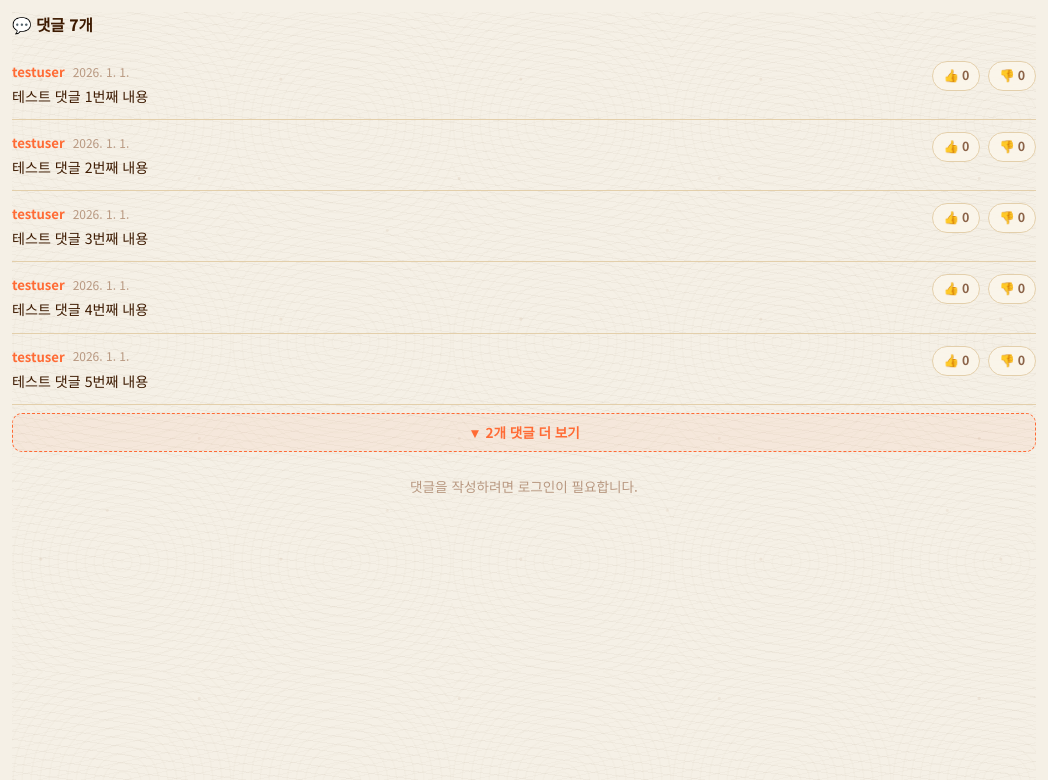
RecommendationCommentSection › 댓글 접기/펼치기 › '더 보기' 클릭 시 전체 댓글이 노출된다
Note: Act: 펼치기
Click the button "▼ 2개 댓글 더 보기".
click(524, 432)  # box [12,413,1036,452]
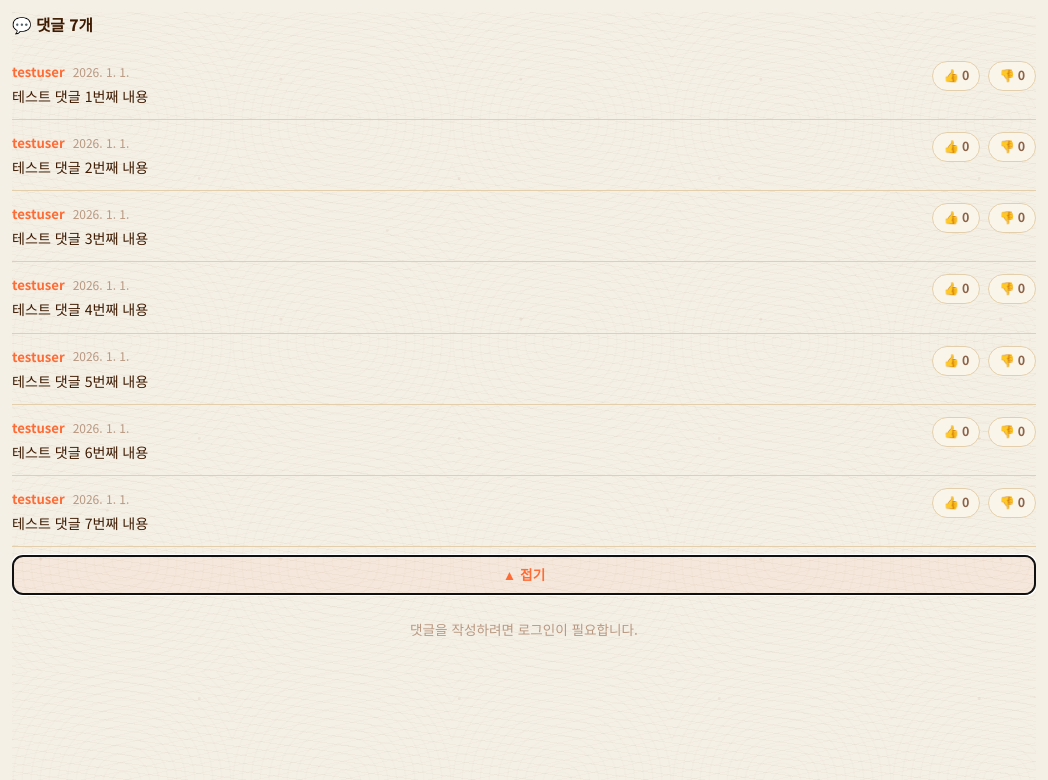
Now the text "테스트 댓글 1번째 내용" is shown 7 times
